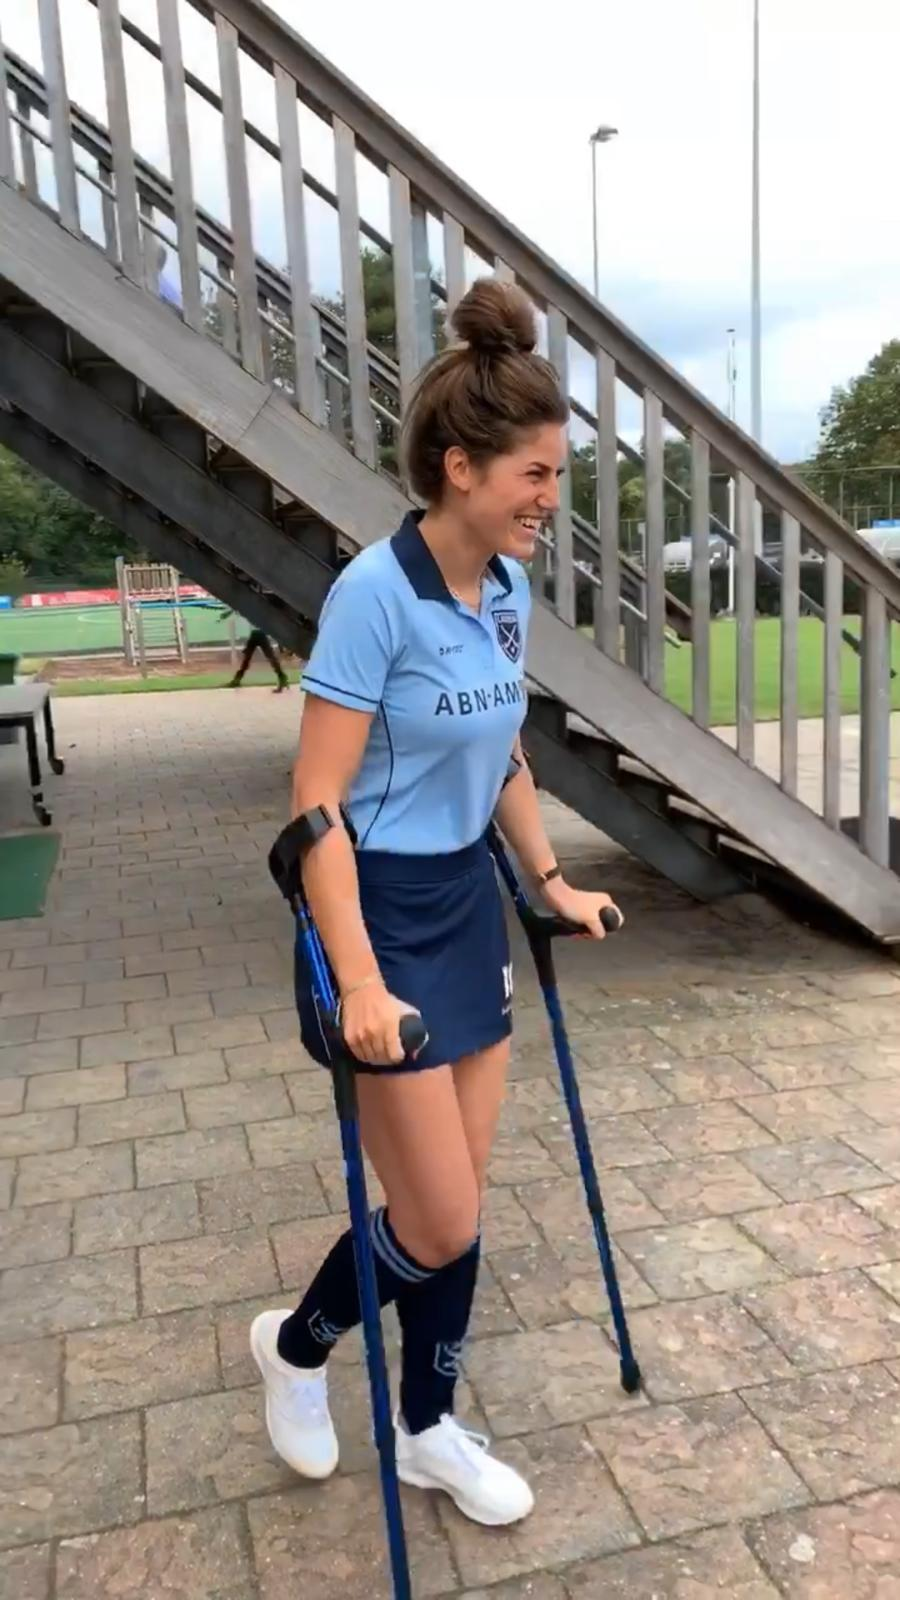crutches: (220, 257, 715, 1600)
